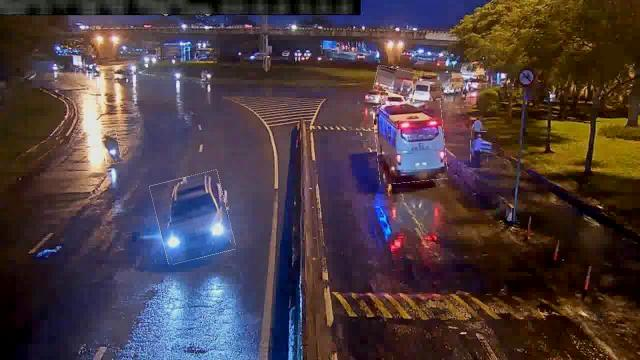Bike: (102, 130, 120, 164), (470, 132, 488, 162)
Bus: (374, 101, 446, 183), (408, 82, 436, 102)
Car: (154, 173, 232, 261)
Truck: (374, 68, 418, 96)
